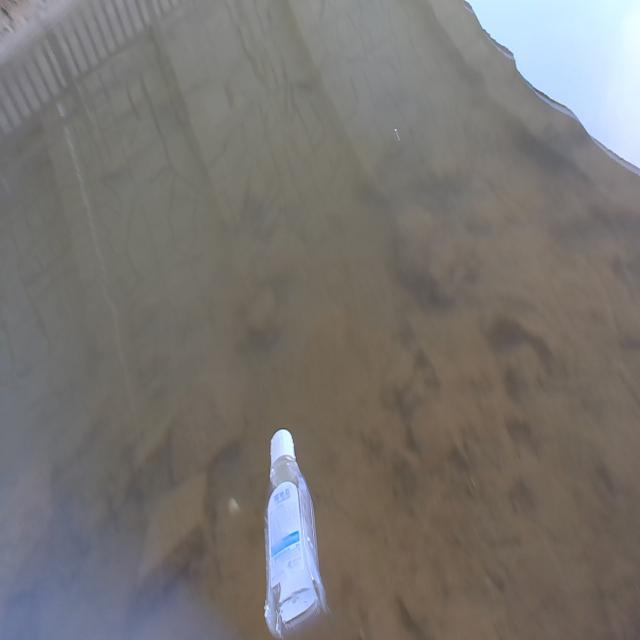Bottle: (260, 417, 330, 633)
